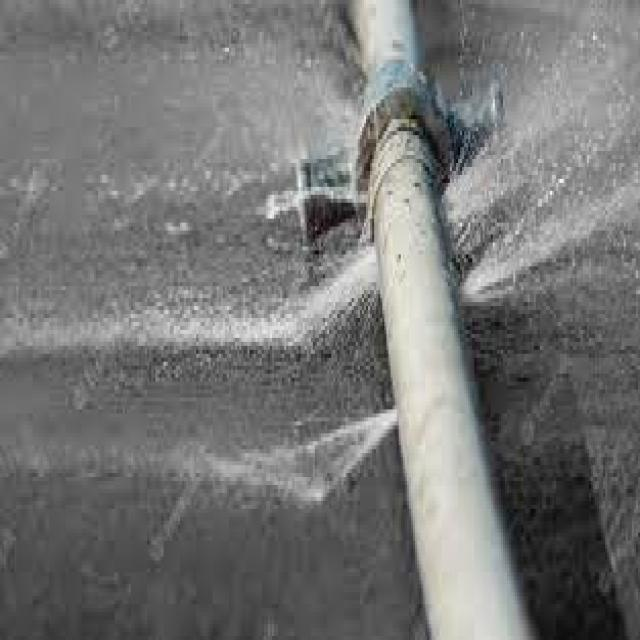corrosion: (337, 154, 495, 458)
